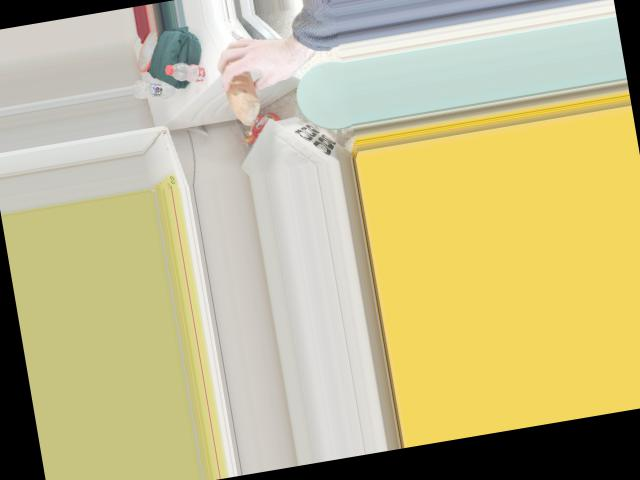sweet_potato: (223, 59, 266, 111)
